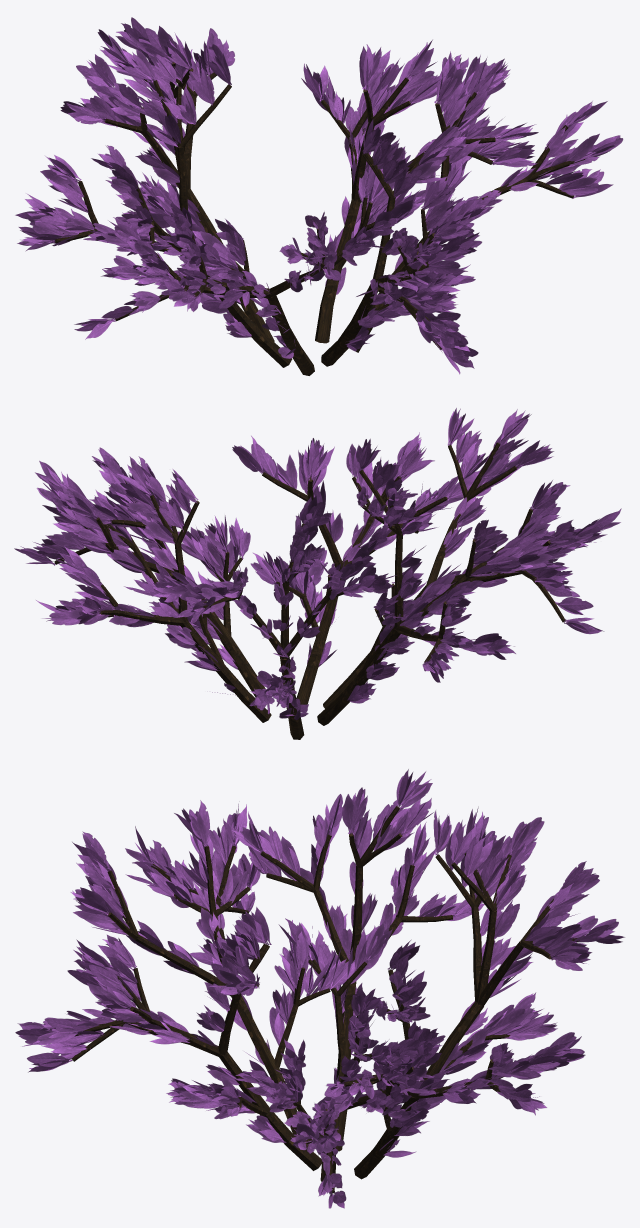
File: heather_dwarf_v01.glb
3 renders of one model, top to bottom at view 1: azimuth 30°, elevation 25°; view 2: azimuth 150°, elevation 25°; view 3: azimuth 270°, elevation 25°, orthographic. The views are drawn at different scales.
Parts seen in each view (by area): view 1: heather_dwarf_v01; view 2: heather_dwarf_v01; view 3: heather_dwarf_v01.
Boxes of the visible parts, left/top/right/bottom form: heather_dwarf_v01: left=15, top=17, right=623, bottom=375; heather_dwarf_v01: left=14, top=408, right=621, bottom=739; heather_dwarf_v01: left=15, top=769, right=624, bottom=1208.
Bounding box in the file's own units: 0.5762 × 0.3118 × 0.5124.
Materials: 2 (2 with a texture image).
